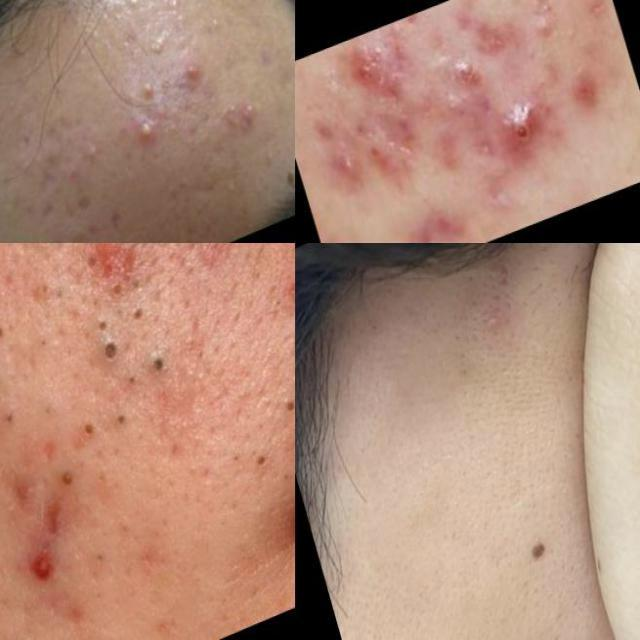Pimples: (90, 307, 182, 417), (51, 398, 140, 464), (11, 530, 74, 608), (332, 38, 400, 102), (494, 85, 548, 154), (568, 55, 606, 117), (125, 111, 172, 161), (62, 181, 96, 234), (171, 50, 216, 88), (230, 99, 260, 152), (244, 441, 276, 488), (100, 198, 132, 244), (268, 388, 296, 436), (32, 196, 65, 236), (111, 243, 172, 262), (28, 243, 68, 269), (0, 350, 14, 416), (0, 623, 46, 640), (286, 273, 295, 333)
